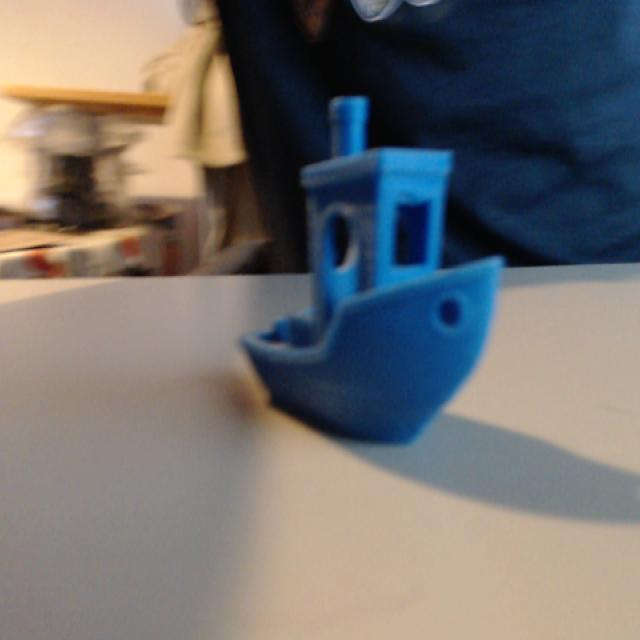benchy: (237, 91, 505, 449)
